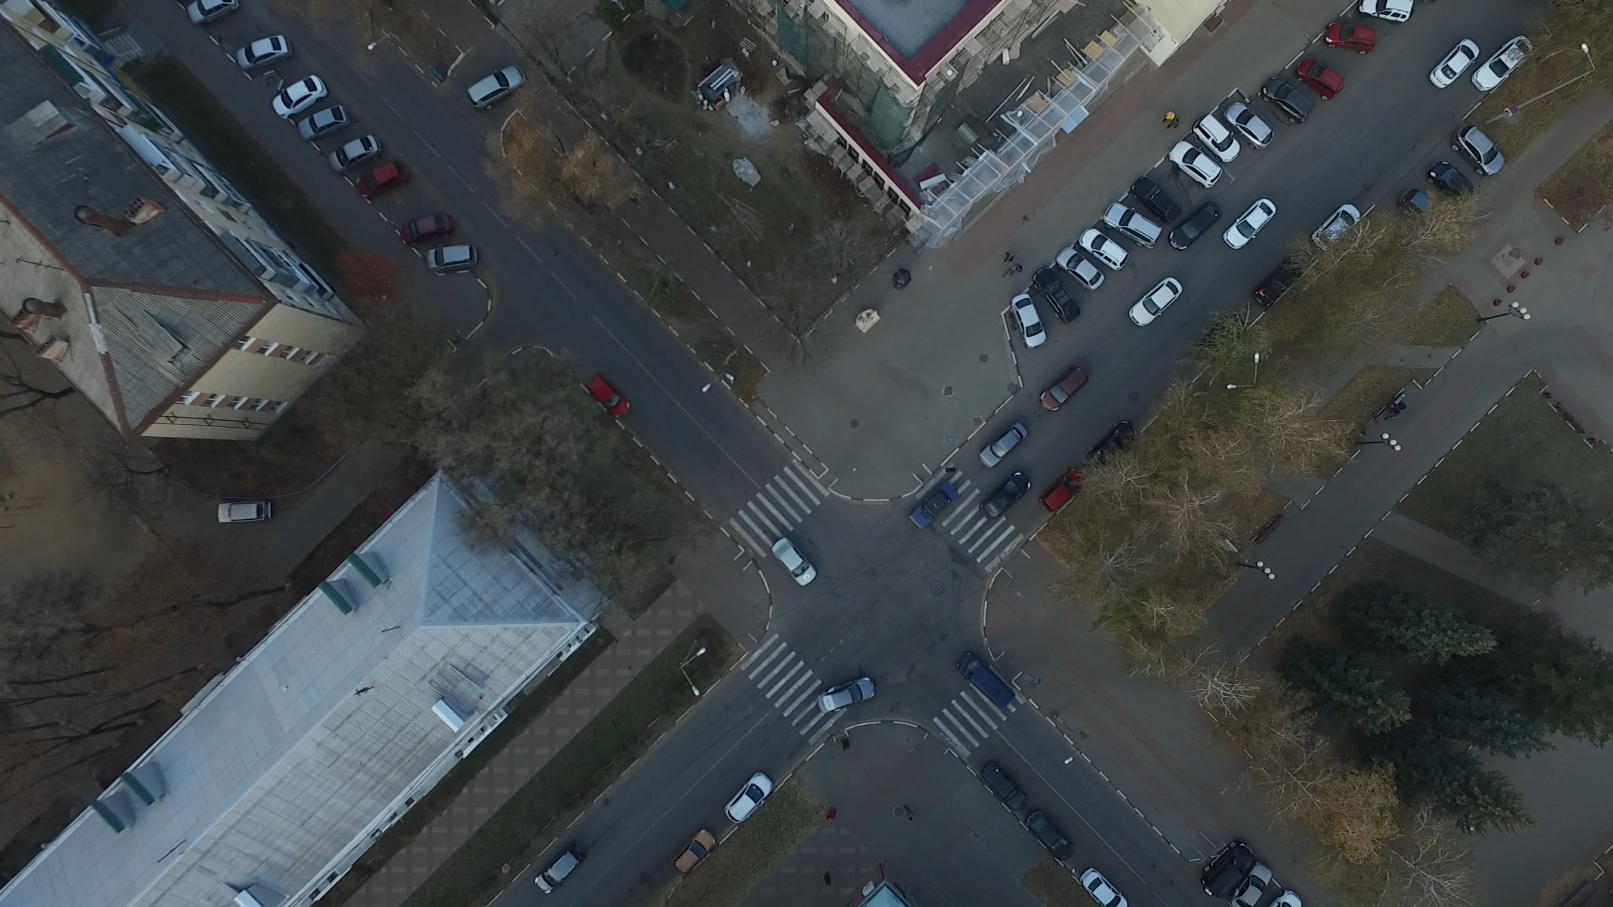car: (1472, 27, 1535, 93), (952, 652, 1011, 714), (1167, 204, 1224, 264), (1225, 198, 1284, 255), (466, 60, 532, 109), (530, 839, 590, 891), (1127, 275, 1183, 330), (1452, 124, 1506, 182), (1103, 204, 1163, 255), (905, 483, 960, 537), (1229, 106, 1283, 162), (1167, 141, 1224, 193), (1196, 846, 1255, 897), (1026, 261, 1077, 320), (722, 769, 772, 828), (1250, 256, 1298, 317), (1316, 205, 1367, 262), (270, 74, 332, 121), (982, 471, 1031, 527), (1427, 38, 1479, 91), (1023, 810, 1071, 865), (1085, 418, 1136, 470), (978, 424, 1032, 473), (1426, 157, 1475, 212), (1130, 174, 1181, 225), (1040, 365, 1090, 418), (1191, 115, 1243, 165), (1263, 81, 1315, 131), (323, 133, 384, 175), (767, 539, 816, 590), (978, 764, 1025, 818), (814, 674, 879, 713), (1294, 55, 1343, 105), (1006, 291, 1049, 347), (1400, 184, 1444, 239), (230, 33, 296, 70), (1058, 249, 1106, 296), (587, 369, 631, 418), (1038, 465, 1082, 514), (355, 161, 412, 197), (299, 104, 355, 142), (1079, 231, 1126, 276), (675, 827, 717, 876), (399, 215, 458, 245), (1356, 1, 1421, 28), (1324, 19, 1376, 52), (1224, 868, 1267, 907), (1077, 868, 1121, 906), (185, 1, 238, 32), (215, 493, 271, 522), (427, 244, 480, 271)
